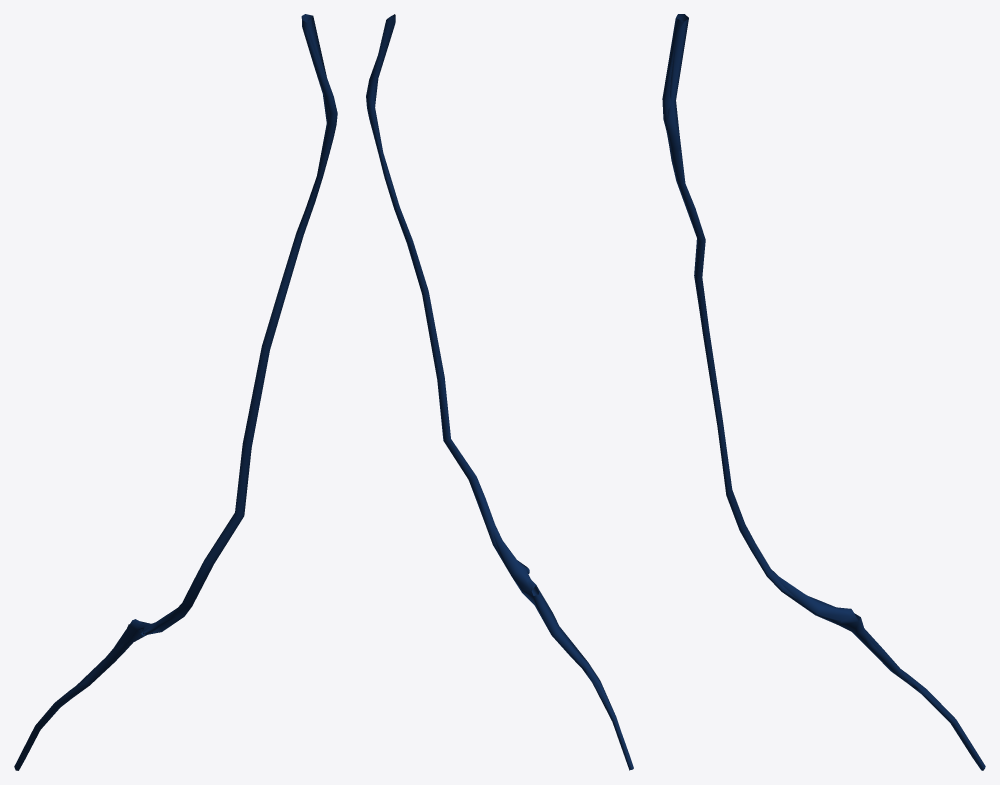
The model's file is R vena cephalica.fbx.
3 views of the same model, side by side, from view 1: azimuth 30°, elevation 25°; view 2: azimuth 210°, elevation 25°; view 3: azimuth 270°, elevation 25° (orthographic). The views are drawn at different scales.
Visible parts, largest first — view 1: R vena cephalica, R vena cephalica low; view 2: R vena cephalica, R vena cephalica low; view 3: R vena cephalica, R vena cephalica low.
Boxes of the visible parts, bbox=[...] form: R vena cephalica: bbox=[14, 14, 337, 770]; R vena cephalica low: bbox=[44, 14, 334, 716]; R vena cephalica: bbox=[366, 14, 633, 768]; R vena cephalica low: bbox=[366, 14, 633, 770]; R vena cephalica: bbox=[662, 14, 985, 770]; R vena cephalica low: bbox=[662, 14, 984, 770].
Bounding box in the file's own units: 5.26 × 25.77 × 9.21.
